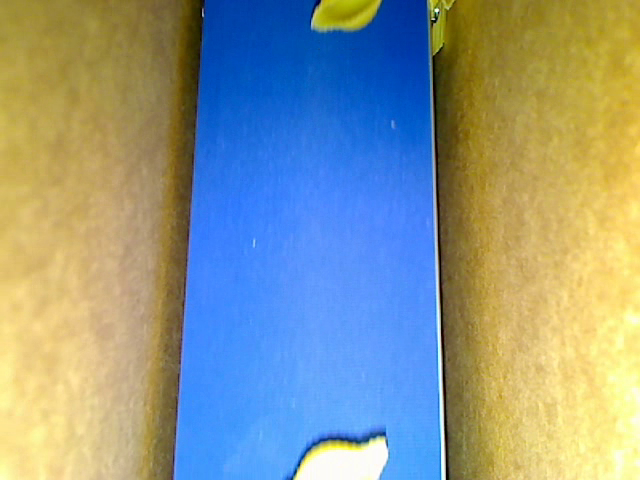penne: (426, 1, 446, 56), (444, 1, 458, 14)
shell: (288, 433, 392, 479), (313, 1, 382, 35)
